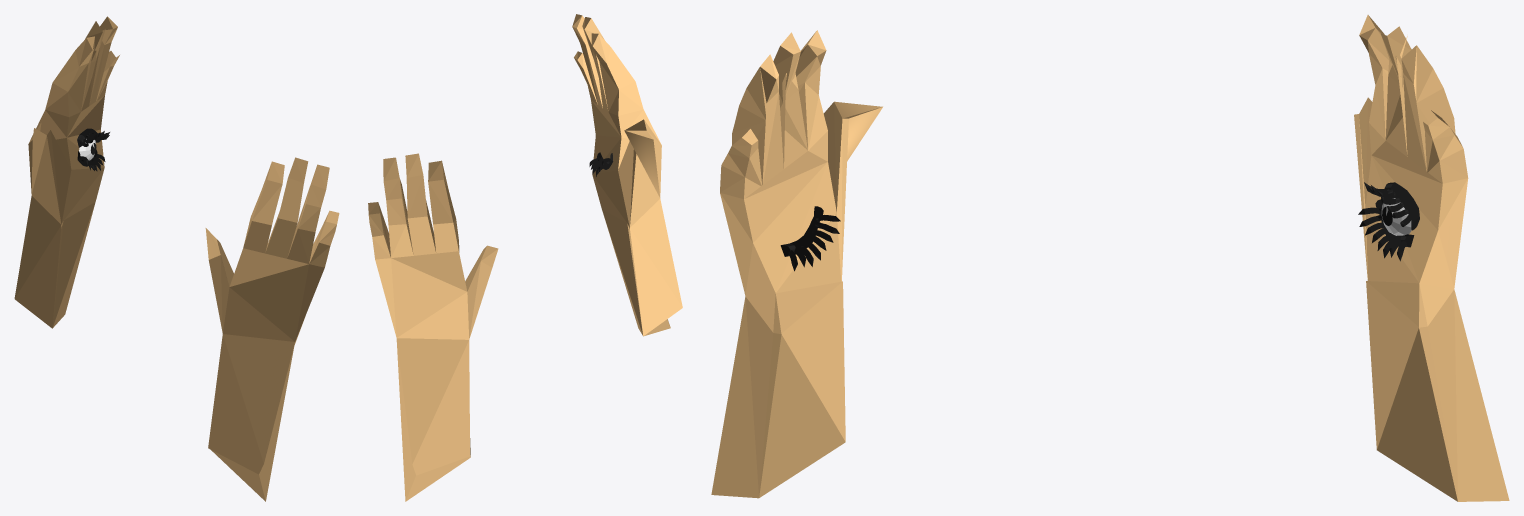
Rendered from handeyesspread2.glb.
3 renders of one model, left to right at view 1: azimuth 30°, elevation 25°; view 2: azimuth 150°, elevation 25°; view 3: azimuth 270°, elevation 25°, orthographic. The views are drawn at different scales.
Visible parts, largest first — view 1: Node; view 2: Node; view 3: Node.
Boxes of the visible parts, x1=… form: Node: x1=14, y1=16, x2=339, y2=501; Node: x1=368, y1=14, x2=682, y2=501; Node: x1=711, y1=15, x2=1509, y2=501.
Bounding box in the file's own units: 0.4019 × 1.03 × 1.45.
